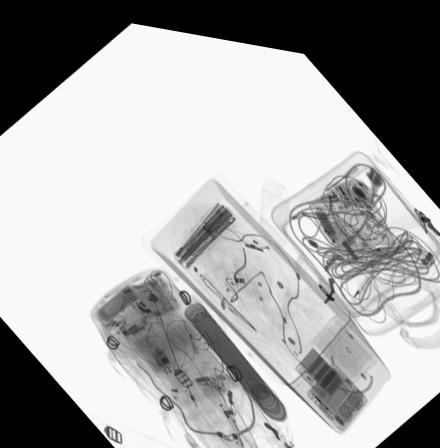Lighter: (188, 326, 199, 346)
